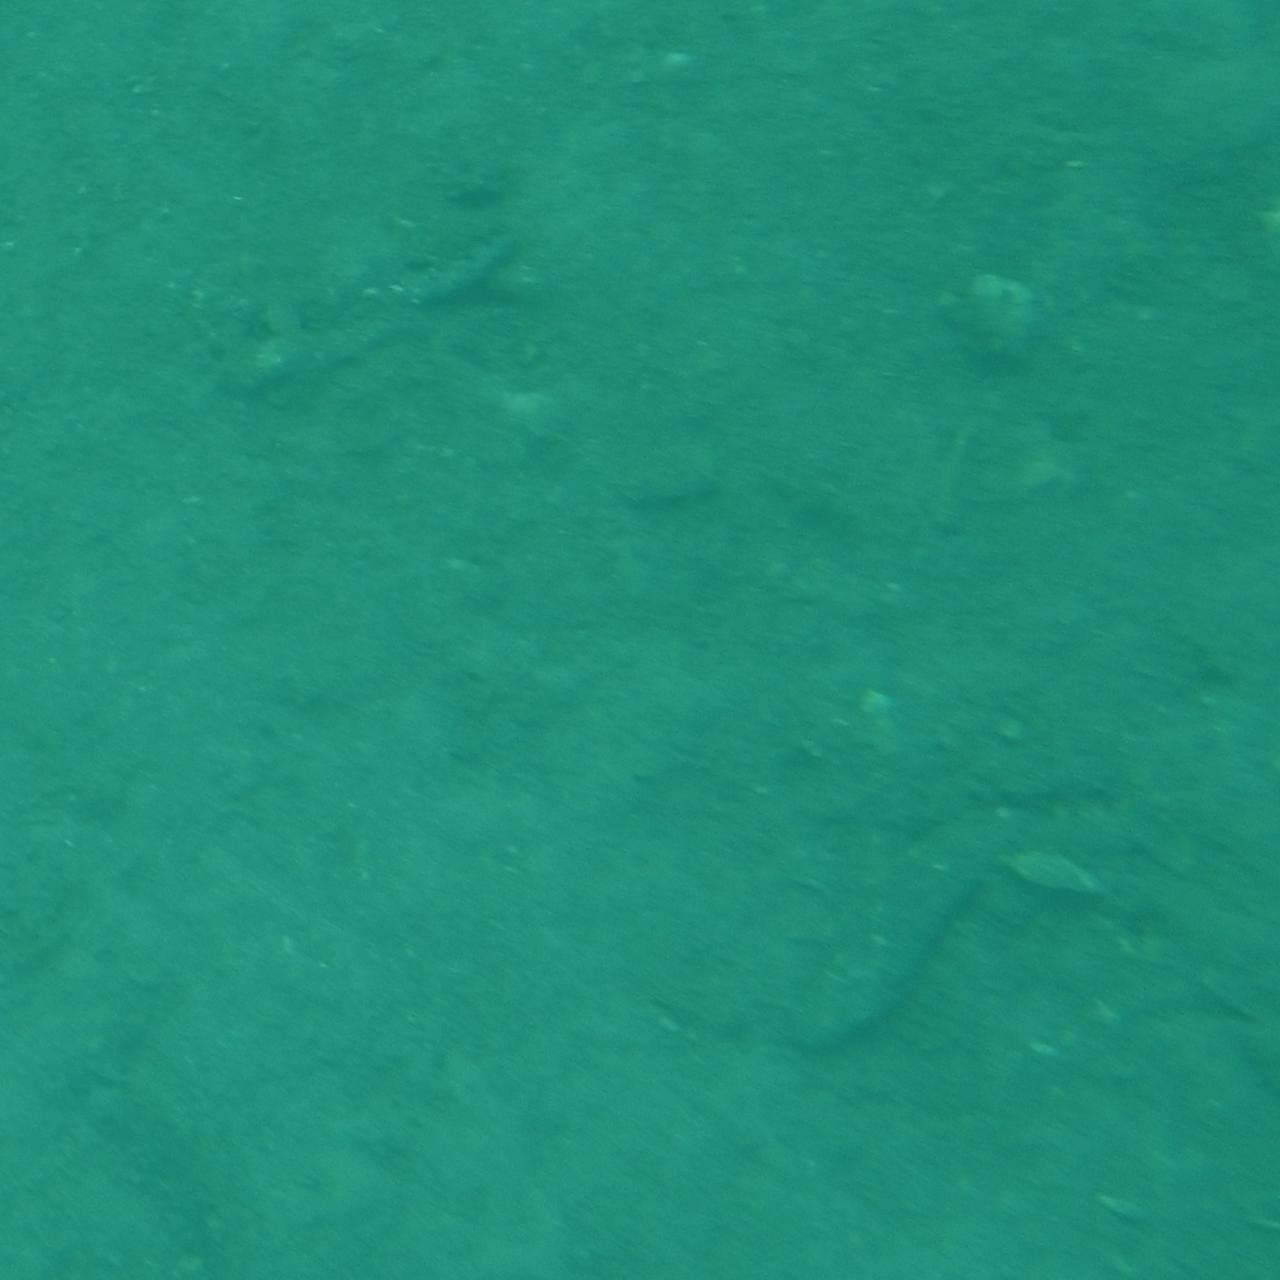Holothuria tubulosa: (200, 224, 568, 411), (768, 856, 1022, 1069)
